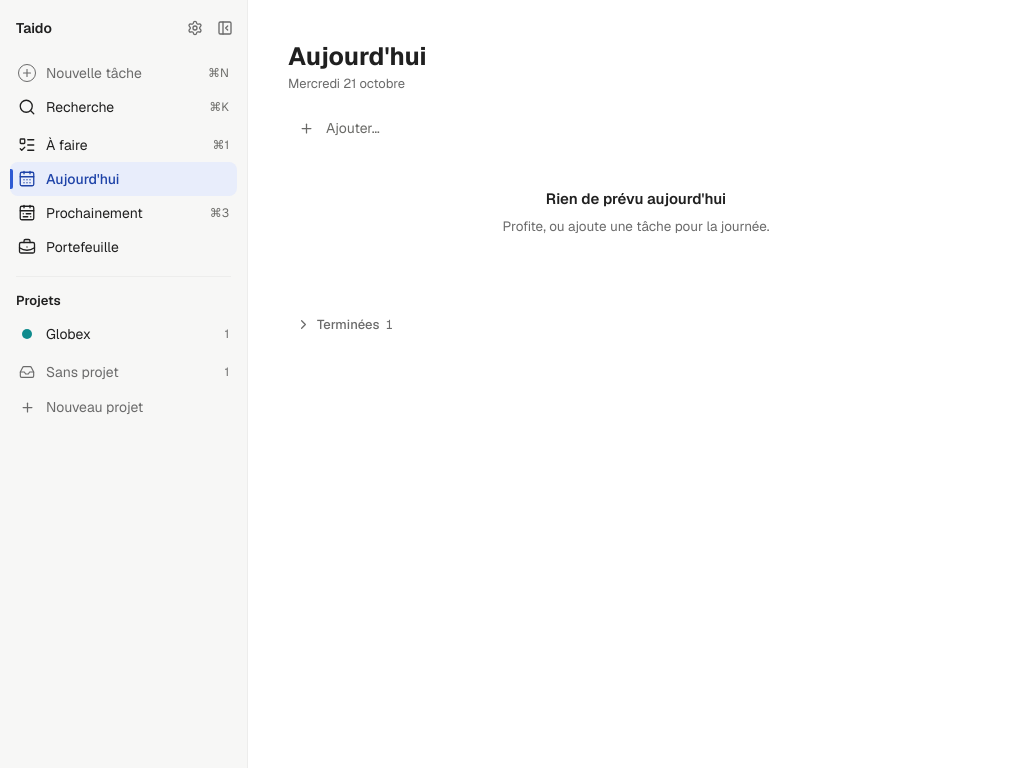
Test: ⌘K « Aller à une tâche » › says when nothing matches
Click the button "Recherche ⌘K". click: (124,107)
box: [10, 90, 237, 124]
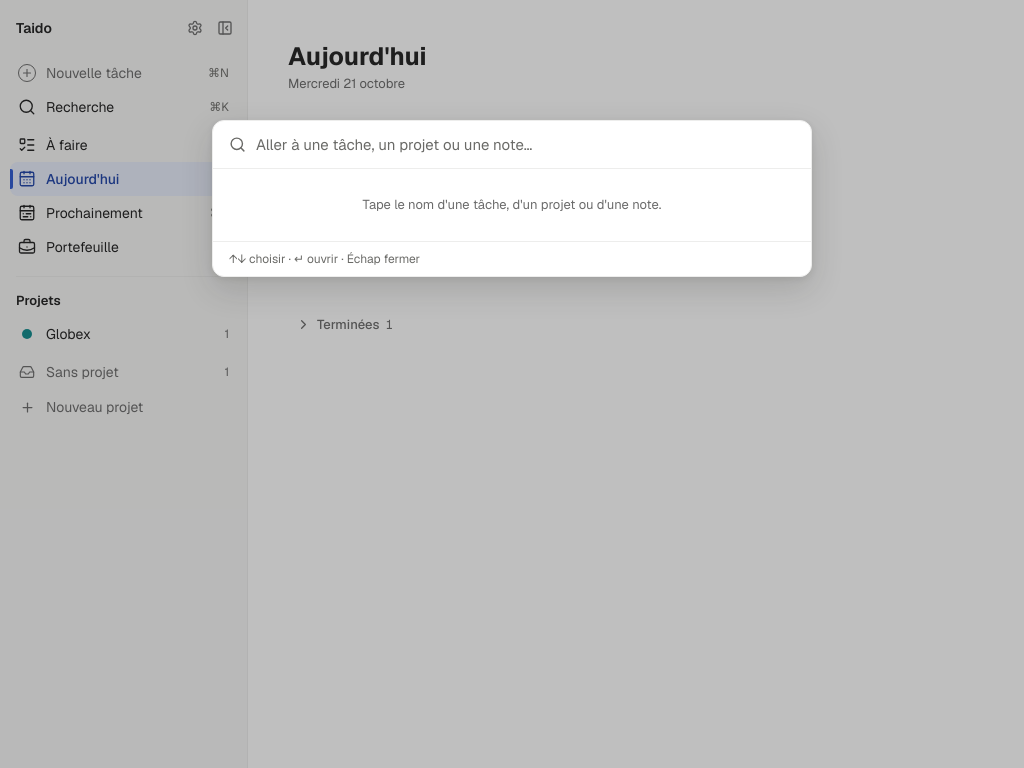
Type "zzz" into the dropdown named "Rechercher une tâche ou une note". click: (526,144)
box: [256, 121, 795, 168]
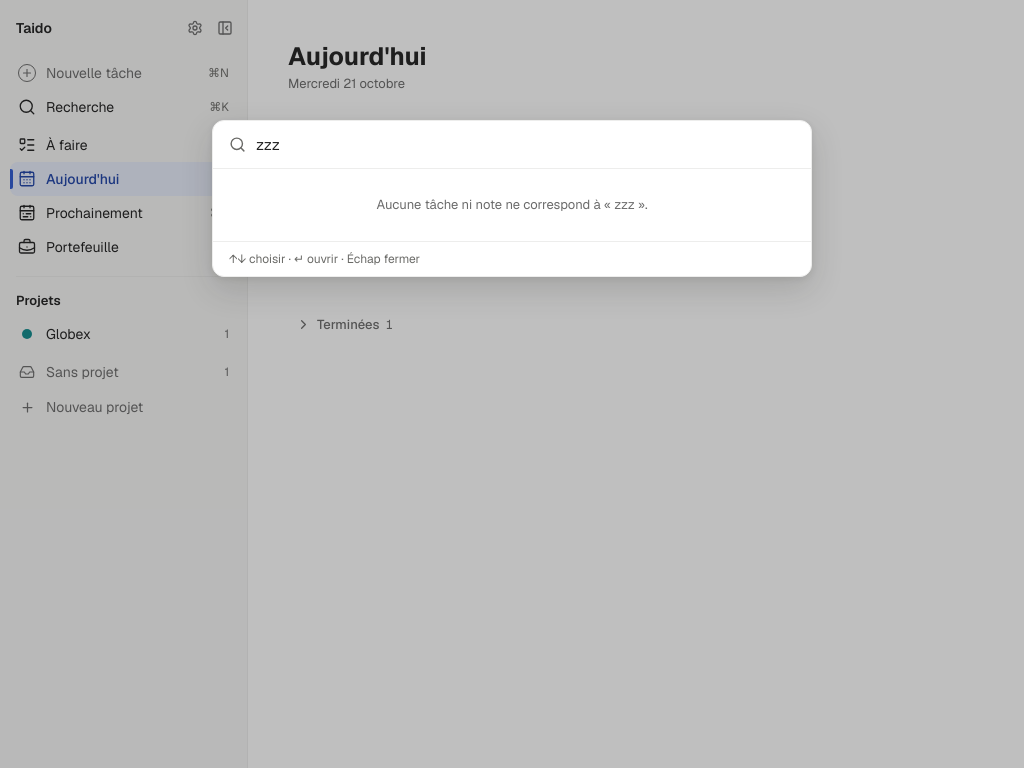
Expected: the text "Aucune tâche ni note ne correspond à « zzz »." is shown, [376, 196, 648, 213]
